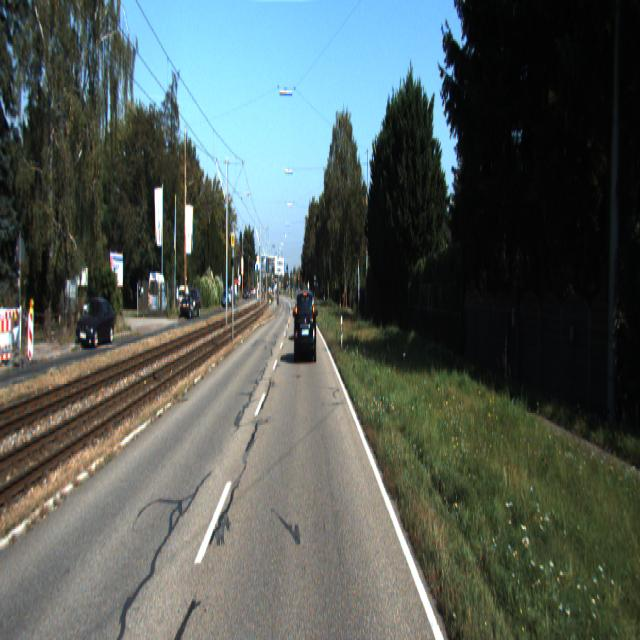Car: (77, 300, 114, 353), (295, 290, 317, 364), (148, 272, 169, 318), (180, 292, 197, 320)
DontCare: (218, 279, 276, 310)
